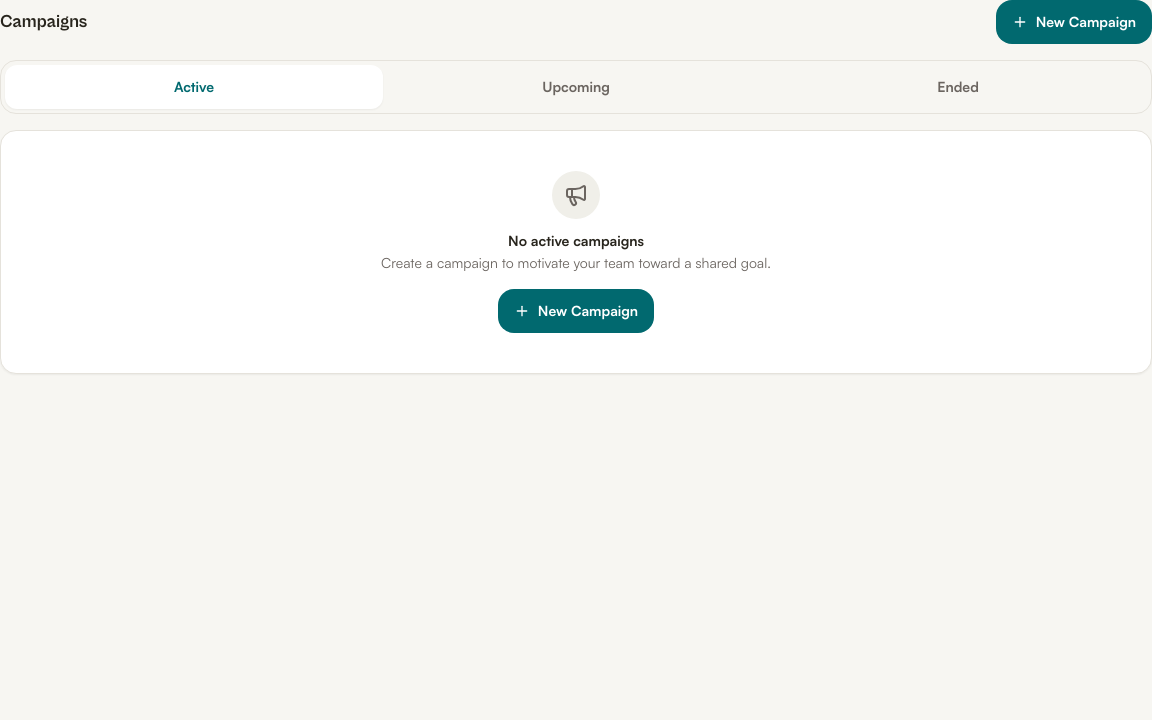
Test case: CampaignPanel — 0.1b actionable empty (manager list) › shows a "New Campaign" CTA for a manager (canCreate) when the active-campaigns list is empty
The image size is (1152, 720).
Expected: the element with test id "campaign-list-empty" shows "No active campaigns", x1=508 y1=232 x2=644 y2=249
Expected: the 1st button "New Campaign" is shown, x1=996 y1=0 x2=1151 y2=44
Step 1. Click the button "New Campaign" below "No active campaigns" → (576, 311), box x1=498 y1=289 x2=654 y2=333
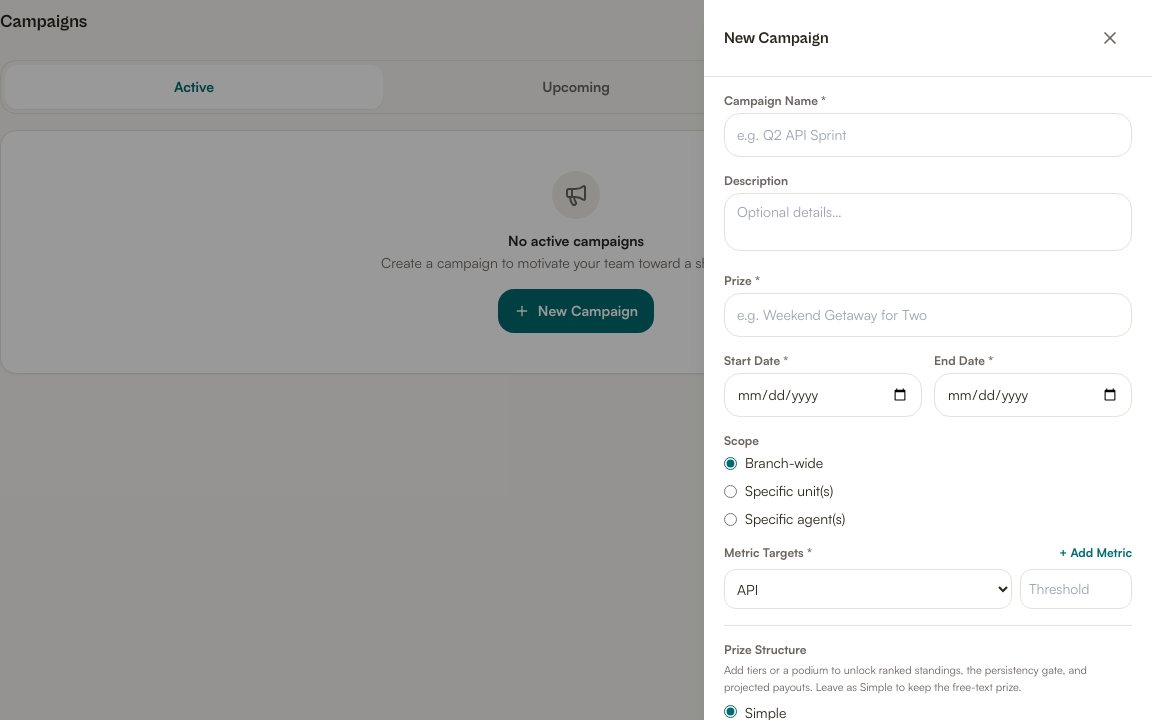
Now the text "Scope" is shown, box x1=724 y1=433 x2=759 y2=448
